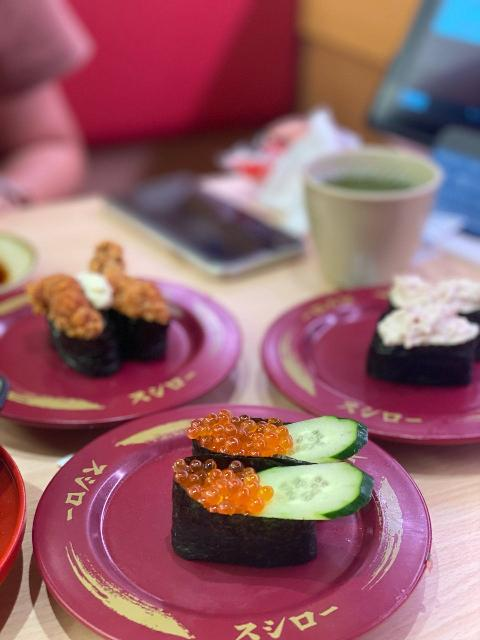janred: (32, 412, 423, 633), (263, 259, 480, 441), (0, 274, 257, 419), (0, 438, 57, 598)
